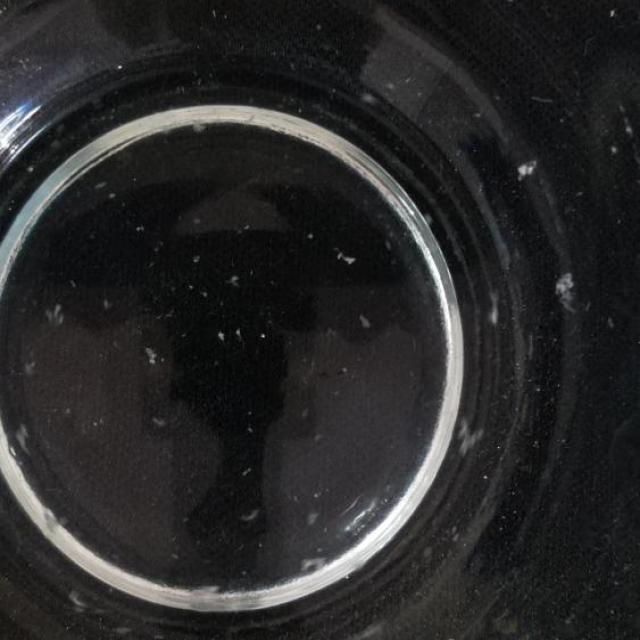fiber: (550, 273, 586, 322), (352, 74, 388, 113), (510, 155, 550, 188), (6, 416, 36, 459), (457, 422, 487, 460), (192, 580, 231, 609), (62, 582, 88, 618), (352, 298, 376, 335), (238, 499, 264, 533), (142, 342, 165, 380), (332, 237, 360, 267), (417, 202, 439, 238), (48, 303, 72, 336), (298, 553, 331, 576), (17, 350, 43, 379), (213, 320, 233, 350), (440, 634, 461, 639)
